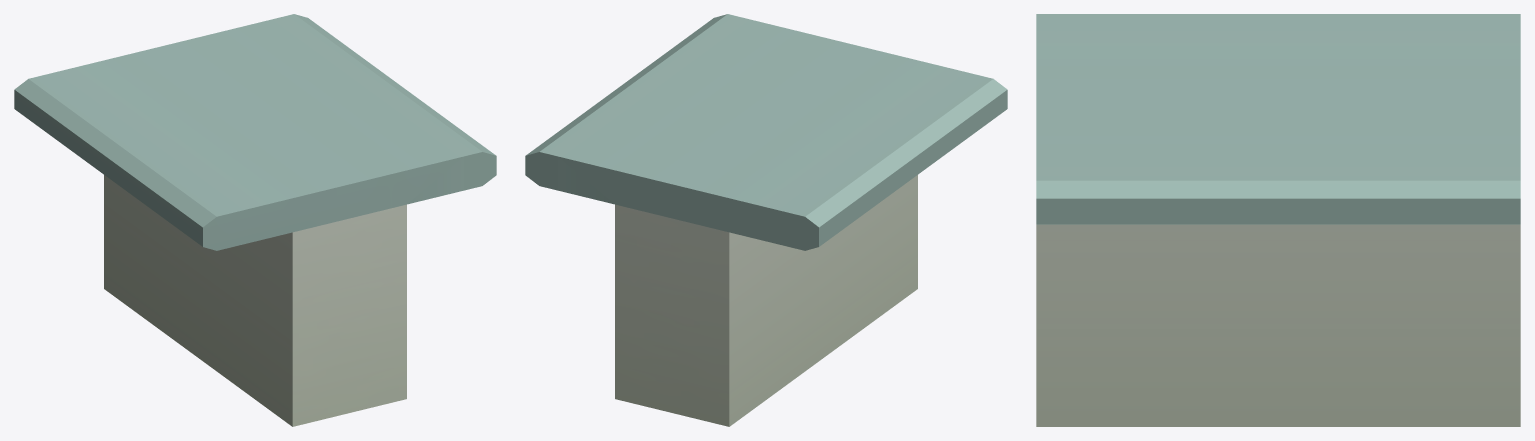
File: counter-table1.glb
The picture shows the model from 3 angles, left to right: view 1: azimuth 30°, elevation 25°; view 2: azimuth 150°, elevation 25°; view 3: azimuth 270°, elevation 25°; orthographic projection. The views are drawn at different scales.
Parts seen in each view (by area): view 1: CounterTable1.001; view 2: CounterTable1.001; view 3: CounterTable1.001.
Boxes of the visible parts, left/top/right/bottom form: CounterTable1.001: left=14, top=14, right=496, bottom=426; CounterTable1.001: left=525, top=14, right=1007, bottom=426; CounterTable1.001: left=1036, top=14, right=1520, bottom=426.
Size of the model in its own units: 0.9 by 0.6696 by 1.
1 material, 1 textured.
